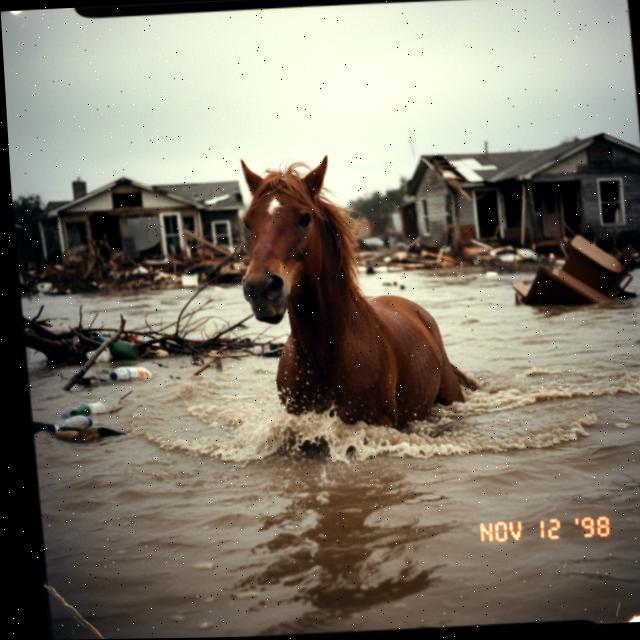horse: (219, 142, 501, 444)
